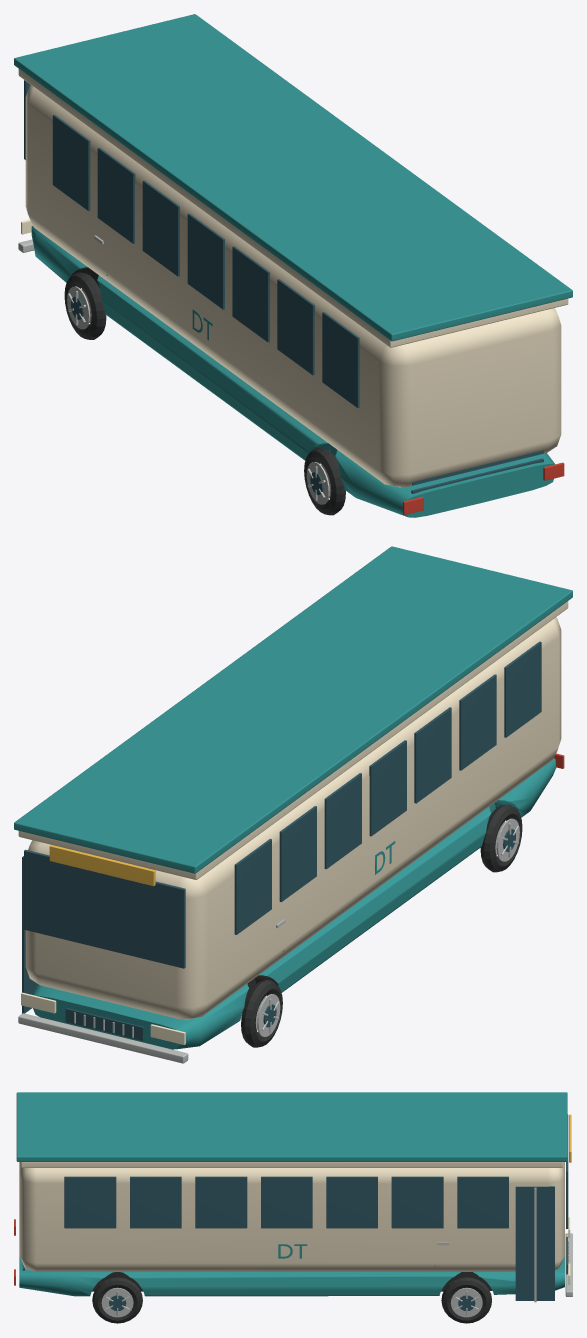
File: bus_detail.glb
The picture shows the model from 3 angles, top to bottom: view 1: azimuth 30°, elevation 25°; view 2: azimuth 150°, elevation 25°; view 3: azimuth 270°, elevation 25°; orthographic projection. The views are drawn at different scales.
Parts seen in each view (by area): view 1: BusModel traffic_teal, BusModel traffic_cream, BusModel traffic_glass, Rounded road tire.001, Rounded road tire, Spin.001 traffic_metal, Spin traffic_metal; view 2: BusModel traffic_teal, BusModel traffic_cream, BusModel traffic_glass, BusModel traffic_metal, Destination sign, Rounded road tire.001, Rounded road tire, BusModel traffic_light, Spin traffic_metal, Spin.001 traffic_metal; view 3: BusModel traffic_teal, BusModel traffic_cream, BusModel traffic_glass, Rounded road tire.002, Rounded road tire.003, BusModel traffic_metal, Spin.003 traffic_metal, Spin.002 traffic_metal.
Part boxes in pixels (left/top/right/bottom): BusModel traffic_teal: left=14, top=14, right=572, bottom=517; BusModel traffic_cream: left=18, top=69, right=568, bottom=487; BusModel traffic_glass: left=24, top=80, right=543, bottom=493; Rounded road tire.001: left=64, top=272, right=106, bottom=339; Rounded road tire: left=304, top=448, right=345, bottom=515; Spin.001 traffic_metal: left=67, top=286, right=91, bottom=329; Spin traffic_metal: left=306, top=462, right=331, bottom=504; BusModel traffic_teal: left=14, top=546, right=572, bottom=1049; BusModel traffic_cream: left=18, top=601, right=568, bottom=1019; BusModel traffic_glass: left=22, top=641, right=541, bottom=1040; BusModel traffic_metal: left=18, top=919, right=285, bottom=1063; Destination sign: left=49, top=845, right=155, bottom=886; Rounded road tire.001: left=241, top=980, right=282, bottom=1047; Rounded road tire: left=480, top=804, right=522, bottom=872; BusModel traffic_light: left=21, top=992, right=185, bottom=1044; Spin traffic_metal: left=495, top=818, right=519, bottom=861; Spin.001 traffic_metal: left=255, top=994, right=280, bottom=1036; BusModel traffic_teal: left=16, top=1092, right=567, bottom=1296; BusModel traffic_cream: left=19, top=1162, right=564, bottom=1271; BusModel traffic_glass: left=22, top=1114, right=568, bottom=1300; Rounded road tire.002: left=92, top=1277, right=142, bottom=1323; Rounded road tire.003: left=441, top=1277, right=491, bottom=1323; BusModel traffic_metal: left=437, top=1187, right=572, bottom=1302; Spin.003 traffic_metal: left=450, top=1287, right=482, bottom=1317; Spin.002 traffic_metal: left=101, top=1287, right=133, bottom=1317.
Size of the model in its own units: 2.5 by 2.81 by 8.49.
